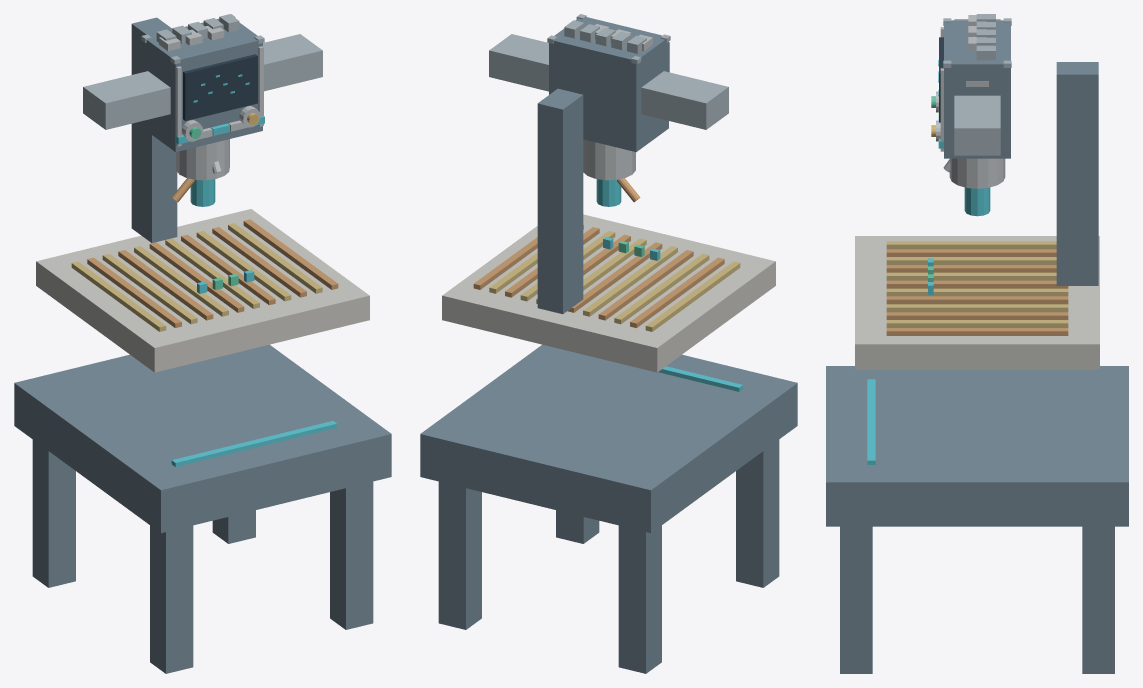
Rendered from 55_L78_SurfaceMoistureInspectionAnalyzer.glb.
3 views of the same model, side by side, from view 1: azimuth 30°, elevation 25°; view 2: azimuth 150°, elevation 25°; view 3: azimuth 270°, elevation 25° (orthographic). The views are drawn at different scales.
Visible parts, largest first — view 1: SurfaceMoistureInspectionAnalyzer_Node_0000, SurfaceMoistureInspectionAnalyzer_Node_0006, SurfaceMoistureInspectionAnalyzer_Node_0020, SurfaceMoistureInspectionAnalyzer_Node_0002, SurfaceMoistureInspectionAnalyzer_Node_0004, SurfaceMoistureInspectionAnalyzer_Node_0023, SurfaceMoistureInspectionAnalyzer_Node_0019, SurfaceMoistureInspectionAnalyzer_Node_0001, SurfaceMoistureInspectionAnalyzer_Node_0030, SurfaceMoistureInspectionAnalyzer_Node_0021, SurfaceMoistureInspectionAnalyzer_Node_0005, SurfaceMoistureInspectionAnalyzer_Node_0003 (+13 smaller); view 2: SurfaceMoistureInspectionAnalyzer_Node_0000, SurfaceMoistureInspectionAnalyzer_Node_0006, SurfaceMoistureInspectionAnalyzer_Node_0019, SurfaceMoistureInspectionAnalyzer_Node_0023, SurfaceMoistureInspectionAnalyzer_Node_0020, SurfaceMoistureInspectionAnalyzer_Node_0001, SurfaceMoistureInspectionAnalyzer_Node_0003, SurfaceMoistureInspectionAnalyzer_Node_0002, SurfaceMoistureInspectionAnalyzer_Node_0021, SurfaceMoistureInspectionAnalyzer_Node_0004, SurfaceMoistureInspectionAnalyzer_Node_0007, SurfaceMoistureInspectionAnalyzer_Node_0009 (+9 smaller); view 3: SurfaceMoistureInspectionAnalyzer_Node_0000, SurfaceMoistureInspectionAnalyzer_Node_0006, SurfaceMoistureInspectionAnalyzer_Node_0019, SurfaceMoistureInspectionAnalyzer_Node_0023, SurfaceMoistureInspectionAnalyzer_Node_0003, SurfaceMoistureInspectionAnalyzer_Node_0004, SurfaceMoistureInspectionAnalyzer_Node_0020, SurfaceMoistureInspectionAnalyzer_Node_0014, SurfaceMoistureInspectionAnalyzer_Node_0015, SurfaceMoistureInspectionAnalyzer_Node_0013, SurfaceMoistureInspectionAnalyzer_Node_0021, SurfaceMoistureInspectionAnalyzer_Node_0007 (+10 smaller).
Part boxes in pixels (x1,y1,x2,y2): SurfaceMoistureInspectionAnalyzer_Node_0000: (14,344,391,533); SurfaceMoistureInspectionAnalyzer_Node_0006: (36,209,369,372); SurfaceMoistureInspectionAnalyzer_Node_0020: (83,34,322,129); SurfaceMoistureInspectionAnalyzer_Node_0002: (150,525,193,673); SurfaceMoistureInspectionAnalyzer_Node_0004: (330,481,373,629); SurfaceMoistureInspectionAnalyzer_Node_0023: (143,18,262,152); SurfaceMoistureInspectionAnalyzer_Node_0019: (131,17,177,242); SurfaceMoistureInspectionAnalyzer_Node_0001: (32,440,75,587); SurfaceMoistureInspectionAnalyzer_Node_0030: (183,54,257,120); SurfaceMoistureInspectionAnalyzer_Node_0021: (176,139,229,180); SurfaceMoistureInspectionAnalyzer_Node_0005: (171,421,336,466); SurfaceMoistureInspectionAnalyzer_Node_0003: (212,510,255,543); SurfaceMoistureInspectionAnalyzer_Node_0000: (420,344,797,533); SurfaceMoistureInspectionAnalyzer_Node_0006: (442,214,775,372); SurfaceMoistureInspectionAnalyzer_Node_0019: (537,88,583,314); SurfaceMoistureInspectionAnalyzer_Node_0023: (549,17,668,152); SurfaceMoistureInspectionAnalyzer_Node_0020: (489,34,728,129); SurfaceMoistureInspectionAnalyzer_Node_0001: (618,525,661,673); SurfaceMoistureInspectionAnalyzer_Node_0003: (438,481,481,629); SurfaceMoistureInspectionAnalyzer_Node_0002: (736,440,779,587); SurfaceMoistureInspectionAnalyzer_Node_0021: (583,139,635,180); SurfaceMoistureInspectionAnalyzer_Node_0004: (556,510,599,543); SurfaceMoistureInspectionAnalyzer_Node_0007: (645,261,740,331); SurfaceMoistureInspectionAnalyzer_Node_0009: (614,253,709,324); SurfaceMoistureInspectionAnalyzer_Node_0000: (826,366,1128,526); SurfaceMoistureInspectionAnalyzer_Node_0006: (855,236,1099,369); SurfaceMoistureInspectionAnalyzer_Node_0019: (1056,62,1098,285); SurfaceMoistureInspectionAnalyzer_Node_0023: (944,20,1010,158); SurfaceMoistureInspectionAnalyzer_Node_0003: (1082,526,1114,673); SurfaceMoistureInspectionAnalyzer_Node_0004: (840,526,872,673); SurfaceMoistureInspectionAnalyzer_Node_0020: (954,19,1000,155); SurfaceMoistureInspectionAnalyzer_Node_0014: (886,296,1068,304); SurfaceMoistureInspectionAnalyzer_Node_0015: (886,304,1068,312); SurfaceMoistureInspectionAnalyzer_Node_0013: (886,288,1068,296); SurfaceMoistureInspectionAnalyzer_Node_0021: (949,158,1005,188); SurfaceMoistureInspectionAnalyzer_Node_0007: (886,241,1056,249).
Size of the model in its own units: 1.18 by 2.79 by 1.3.
